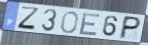3: (41, 9, 58, 33)
6: (102, 15, 118, 37)
E: (78, 12, 102, 37)
O: (60, 11, 80, 35)
P: (118, 15, 143, 40)
Z: (16, 6, 41, 32)
